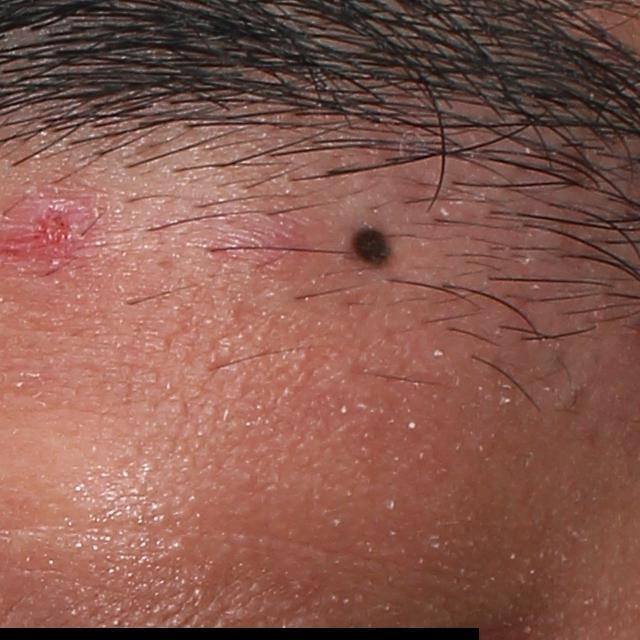nevus: (349, 221, 393, 270)
